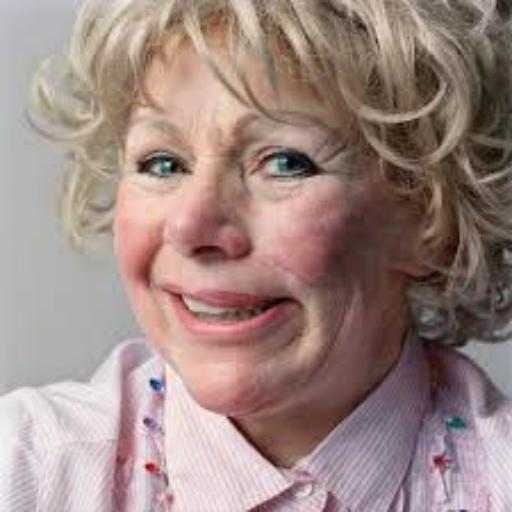left_eye: (253, 150, 320, 186)
left_lip_corner: (276, 292, 310, 317)
right_eye: (137, 154, 194, 184)
right_lip_corner: (160, 282, 181, 305)
